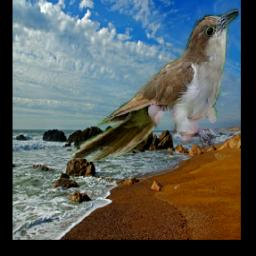Cuckoo: (70, 8, 240, 162)
